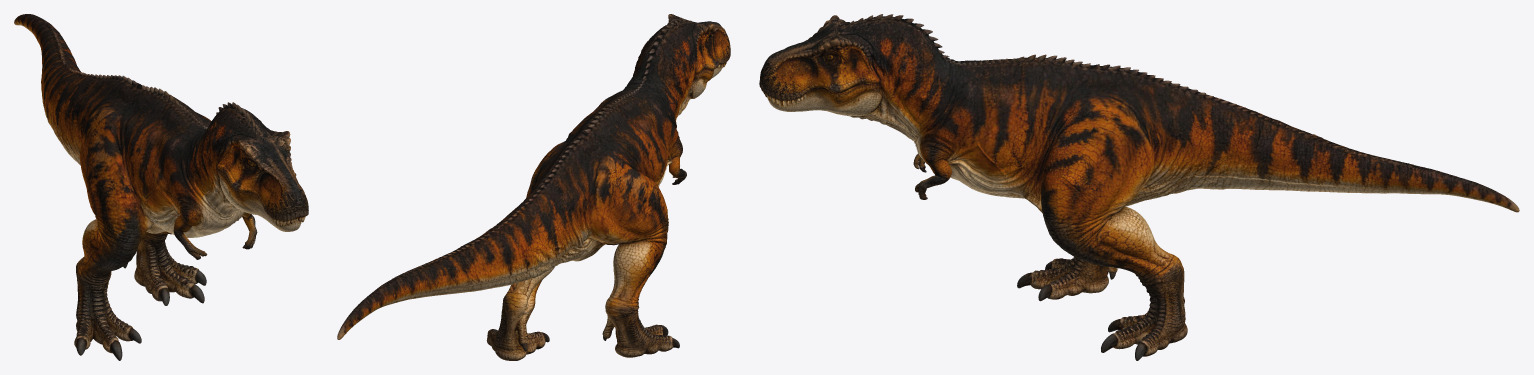
Rendered from trex.glb.
3 views of the same model, side by side, from view 1: azimuth 30°, elevation 25°; view 2: azimuth 150°, elevation 25°; view 3: azimuth 270°, elevation 25° (orthographic). The views are drawn at different scales.
Parts seen in each view (by area): view 1: t-rex; view 2: t-rex; view 3: t-rex.
Boxes of the visible parts, x1,y1,x2,y2 form: t-rex: [14, 14, 308, 360]; t-rex: [337, 14, 730, 360]; t-rex: [759, 14, 1519, 360].
Size of the model in its own units: 3.31 by 5.32 by 12.
Materials: 1 (1 with a texture image).
